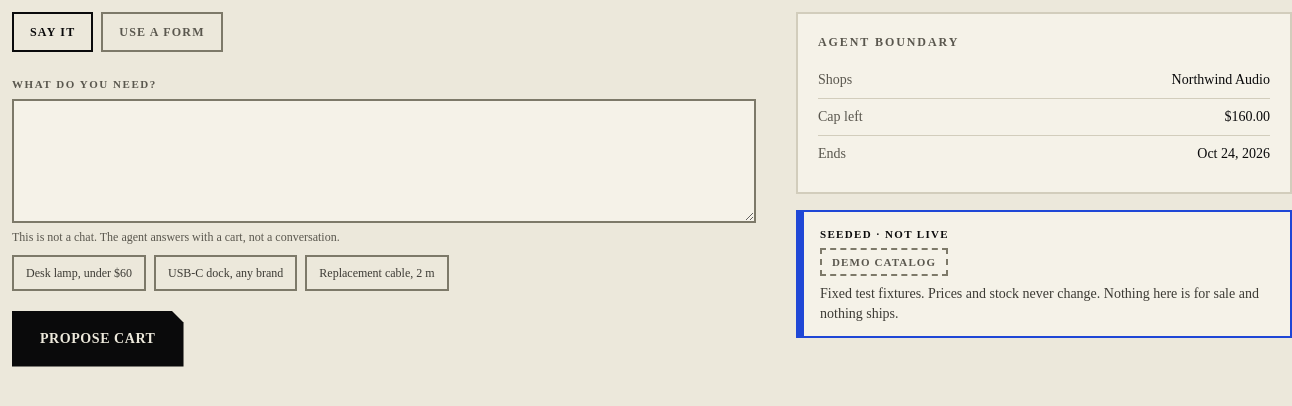
Test case: IntentForm › will not send an empty ask
Click the button "Propose cart": (98, 338) [12,310,184,366]
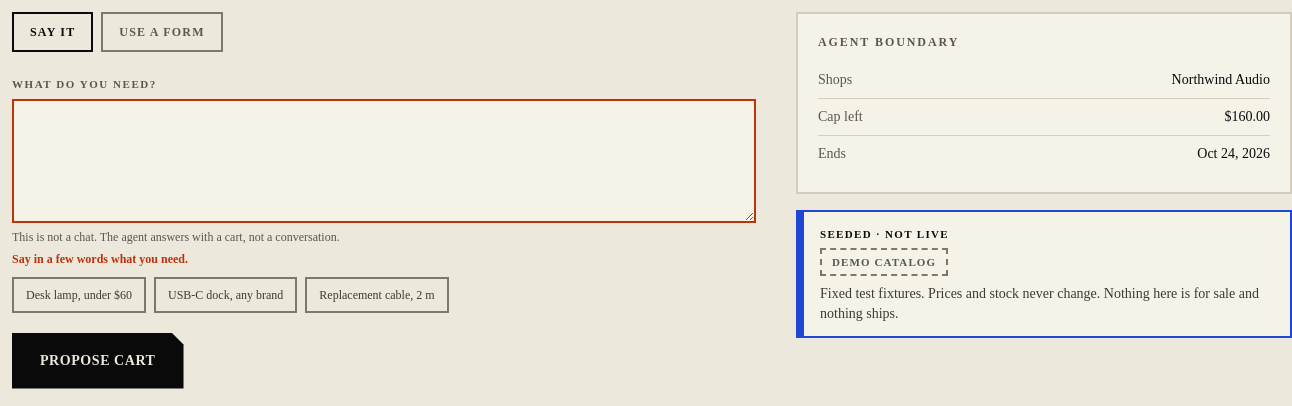
Check: the text "Say in a few words what you need." is shown, box [12,252,188,266]
